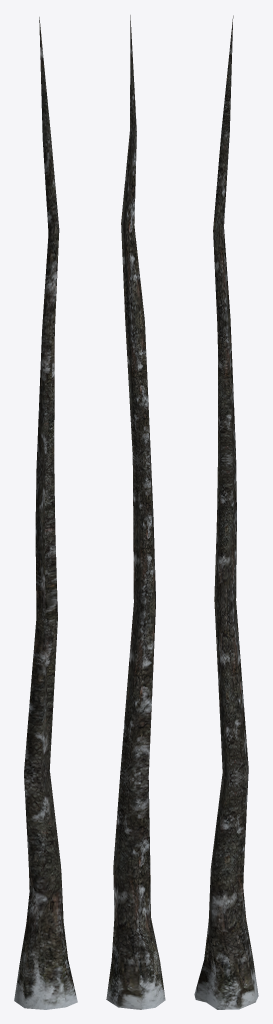
3 renders of one model, left to right at view 1: azimuth 90°, elevation 25°; view 2: azimuth 210°, elevation 25°; view 3: azimuth 270°, elevation 25°, orthographic.
Visible parts, largest first — view 1: 1_zw_01_01; view 2: 1_zw_01_01; view 3: 1_zw_01_01.
Boxes of the visible parts, bbox=[...] form: 1_zw_01_01: bbox=[14, 17, 77, 1009]; 1_zw_01_01: bbox=[106, 15, 165, 1009]; 1_zw_01_01: bbox=[194, 15, 258, 1009].
Size of the model in its own units: 0.339 by 6.75 by 0.3975.
1 material, 1 textured.
